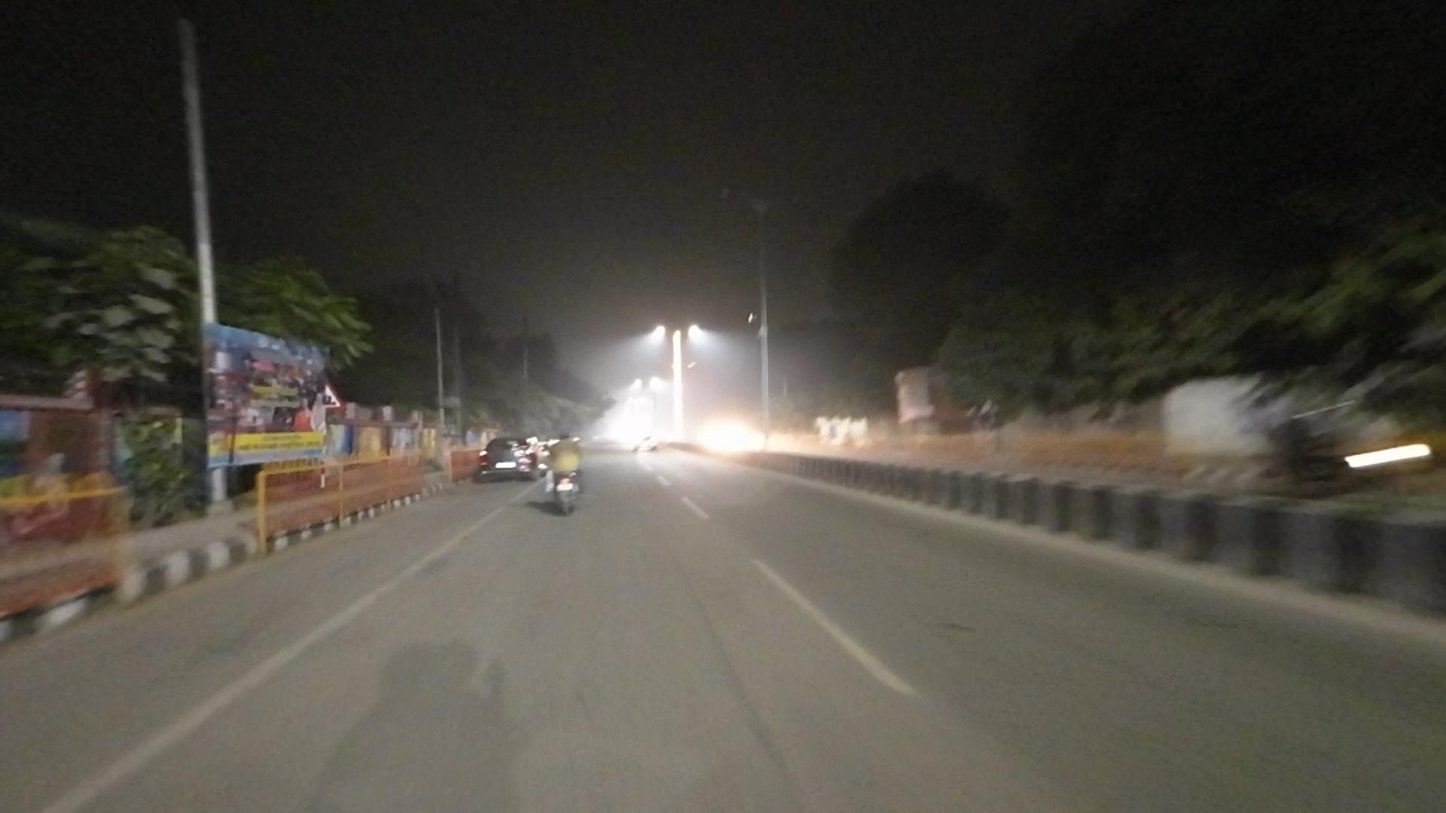streetlight: (721, 185, 749, 199), (770, 197, 799, 205)
